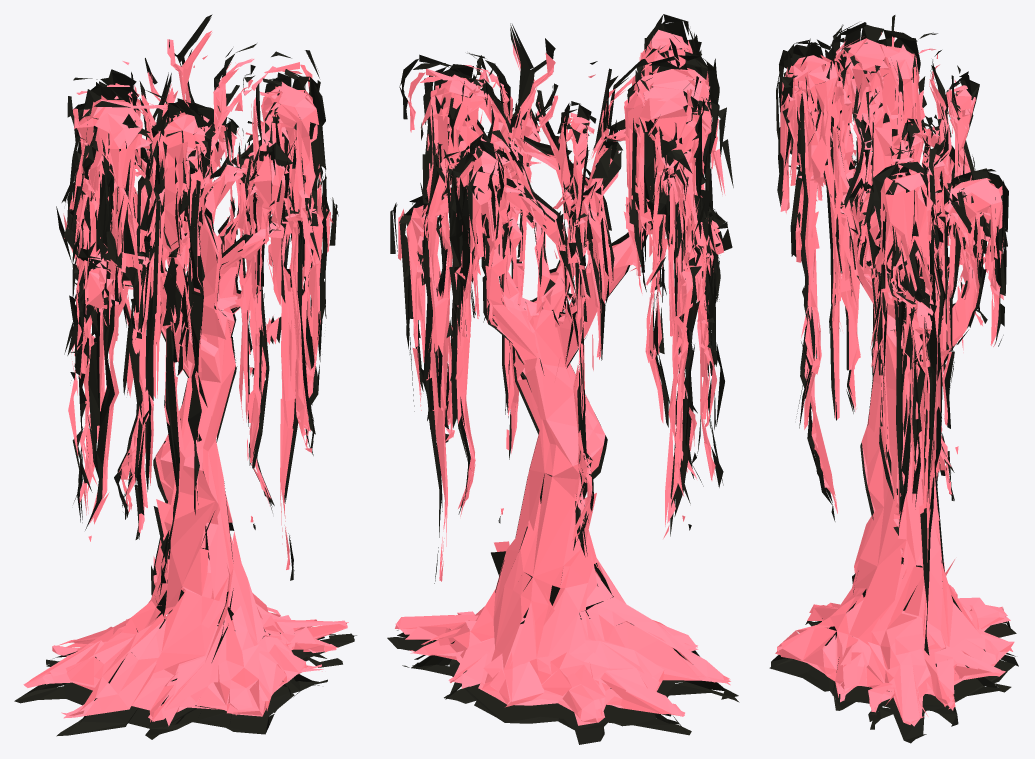
Rendered from df_v2_lantern_tree_c_a.glb.
3 views of the same model, side by side, from view 1: azimuth 30°, elevation 25°; view 2: azimuth 150°, elevation 25°; view 3: azimuth 270°, elevation 25° (orthographic). The views are drawn at different scales.
Parts seen in each view (by area): view 1: lantern_tree_c_mesh_01, lantern_tree_c_mesh_01_ink_outline; view 2: lantern_tree_c_mesh_01, lantern_tree_c_mesh_01_ink_outline; view 3: lantern_tree_c_mesh_01, lantern_tree_c_mesh_01_ink_outline.
Boxes of the visible parts, bbox=[...] form: lantern_tree_c_mesh_01: bbox=[23, 31, 348, 726]; lantern_tree_c_mesh_01_ink_outline: bbox=[14, 14, 356, 739]; lantern_tree_c_mesh_01: bbox=[395, 29, 730, 725]; lantern_tree_c_mesh_01_ink_outline: bbox=[387, 14, 739, 744]; lantern_tree_c_mesh_01: bbox=[775, 31, 1014, 726]; lantern_tree_c_mesh_01_ink_outline: bbox=[769, 15, 1018, 743].
Size of the model in its own units: 2.4 by 4.62 by 1.7.
